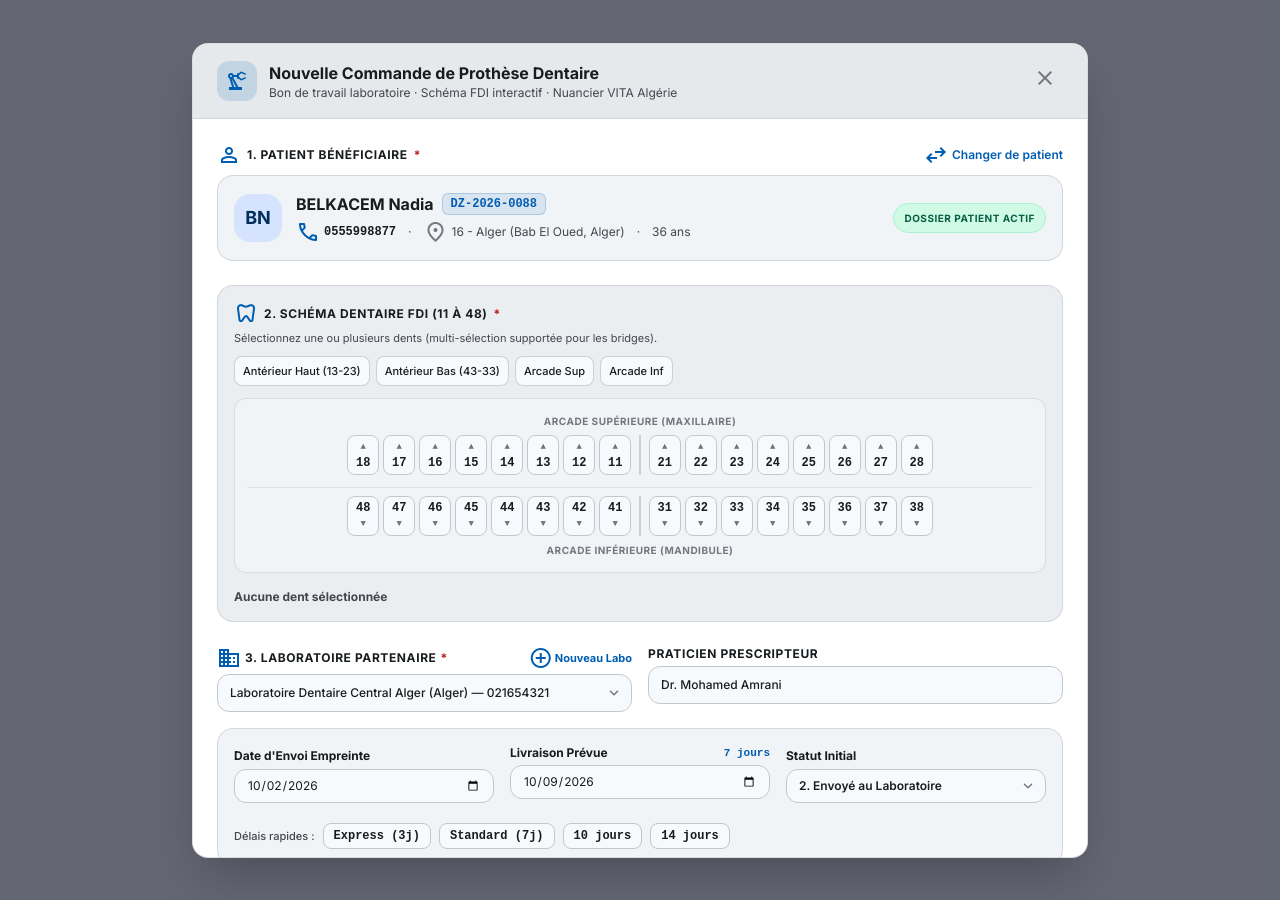
Prompt 7: Prothesis Orders UX, FDI Tooth Selector, VITA Shade Guide & Auto Patient Retrieval › 3. Partner Labs, Auto Lead Time Calculation & VITA Shade Guide › calculates expected delivery date and lead time with presets
Click Express 3j preset
Click the button "Express (3j)" at (377, 836), box [322, 822, 431, 848]
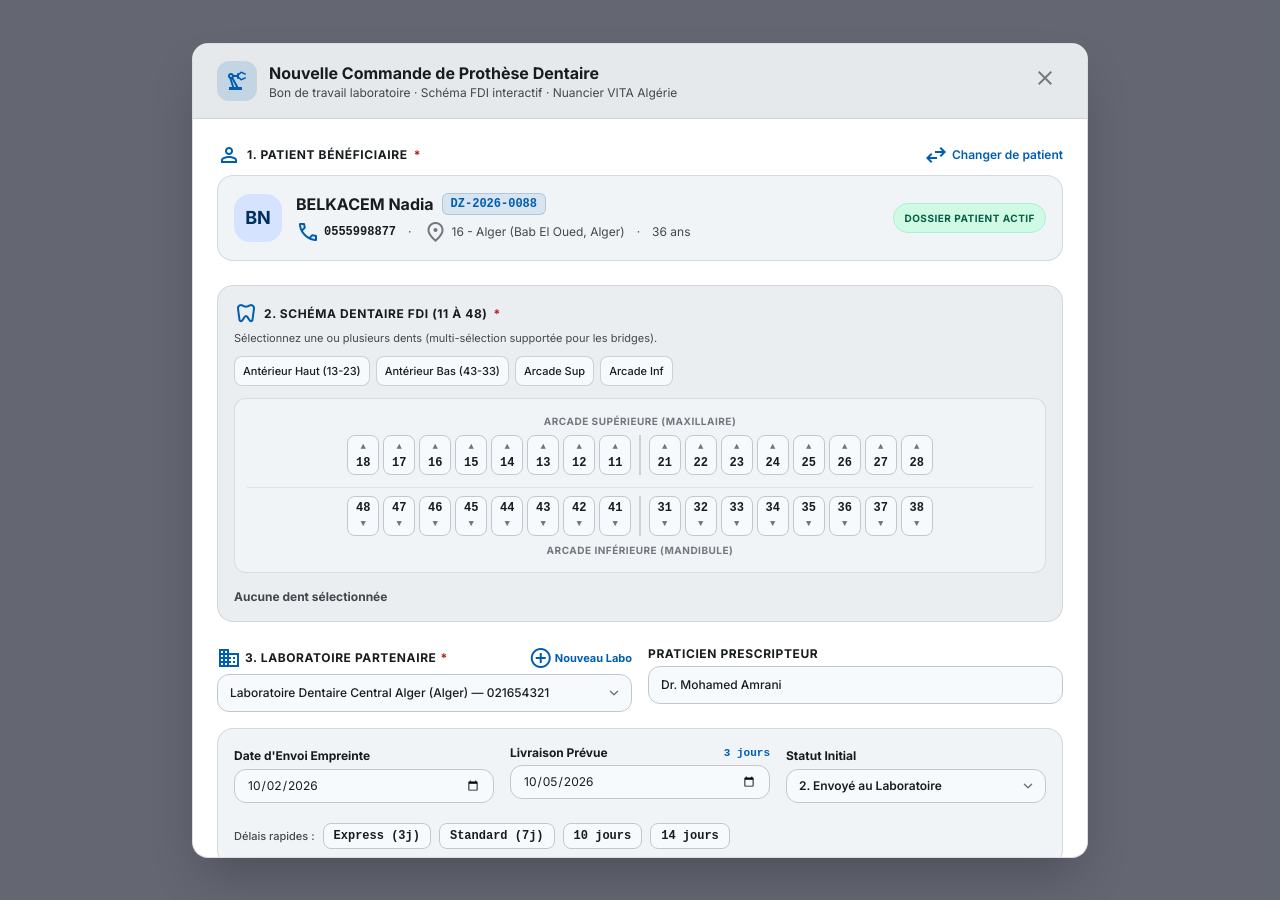
Result: the text "3 jours" is shown at [724, 744, 770, 760]
